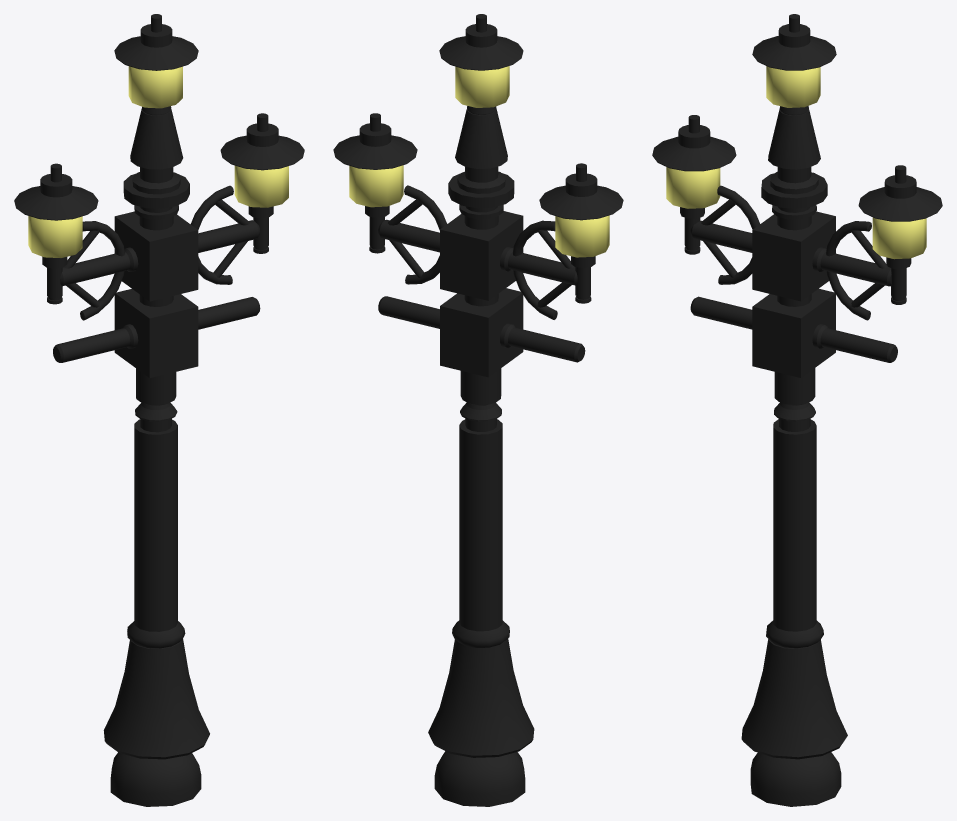
Rendered from streetlight.FBX.
3 renders of one model, left to right at view 1: azimuth 30°, elevation 25°; view 2: azimuth 150°, elevation 25°; view 3: azimuth 330°, elevation 25°, orthographic.
Parts seen in each view (by area): view 1: Capsule001, Cylinder014; view 2: Capsule001, Cylinder014; view 3: Capsule001, Cylinder014.
Boxes of the visible parts, bbox=[...] form: Capsule001: bbox=[14, 14, 304, 806]; Cylinder014: bbox=[28, 66, 288, 257]; Capsule001: bbox=[333, 14, 623, 806]; Cylinder014: bbox=[349, 66, 609, 257]; Capsule001: bbox=[652, 14, 942, 806]; Cylinder014: bbox=[666, 66, 926, 259].
Bounding box in the file's own units: 18.54 × 49.07 × 6.15.
